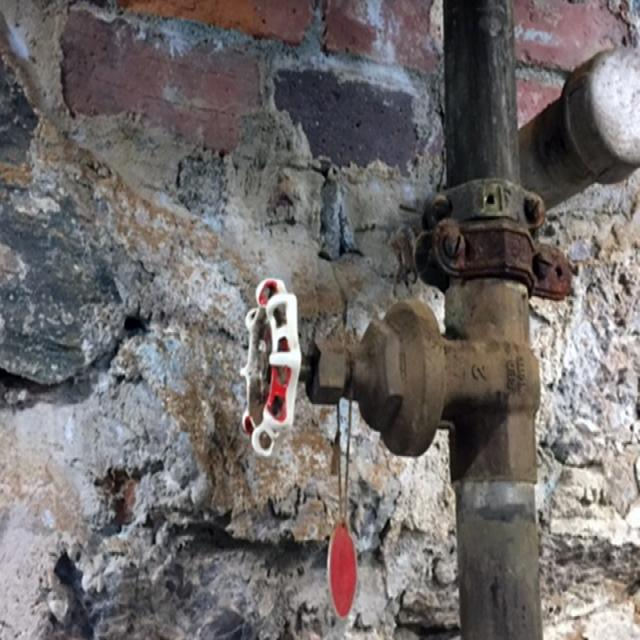Wheel Handle Valve Threaded: (244, 252, 539, 485)
